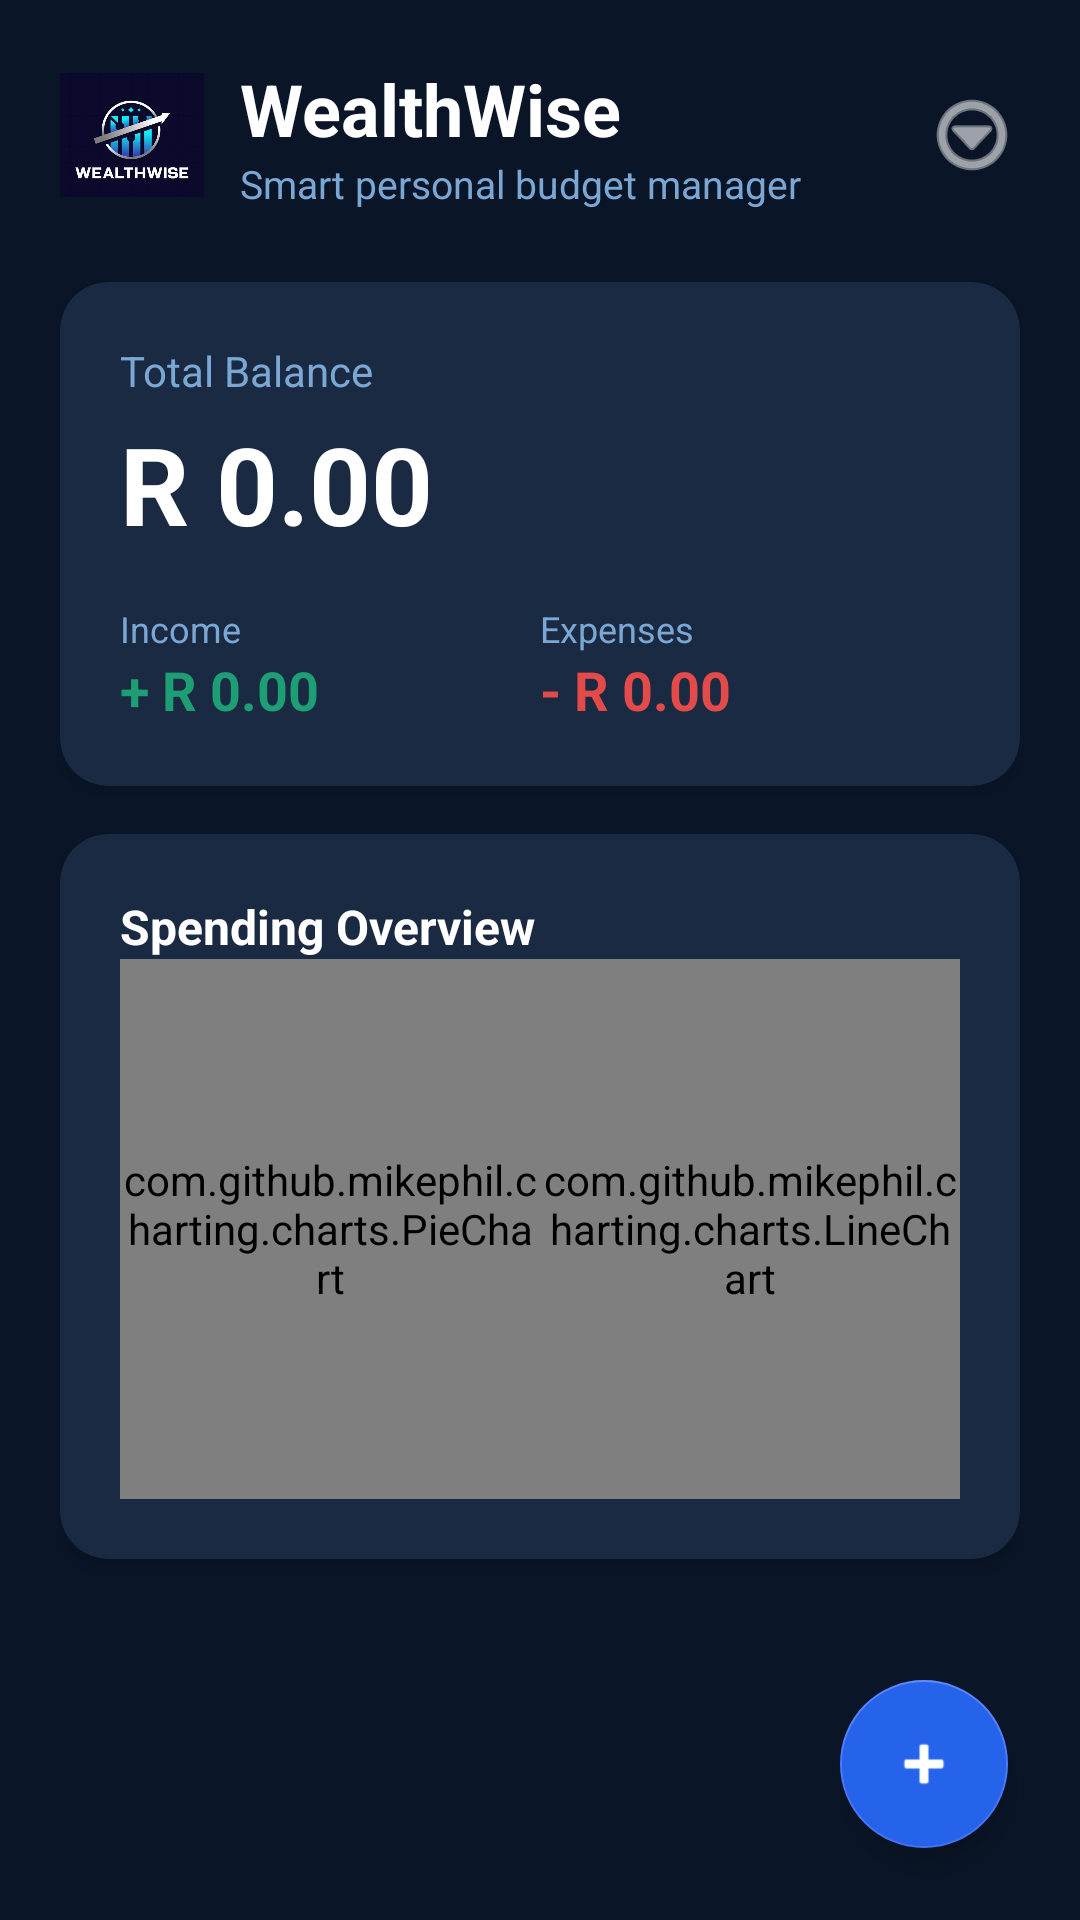

Where icons sit on this 1080px x 1920px app screen, as (x1, y1, x2, y2):
Add Transaction: (840, 1680, 1008, 1848)
Menu: (936, 99, 1008, 171)
